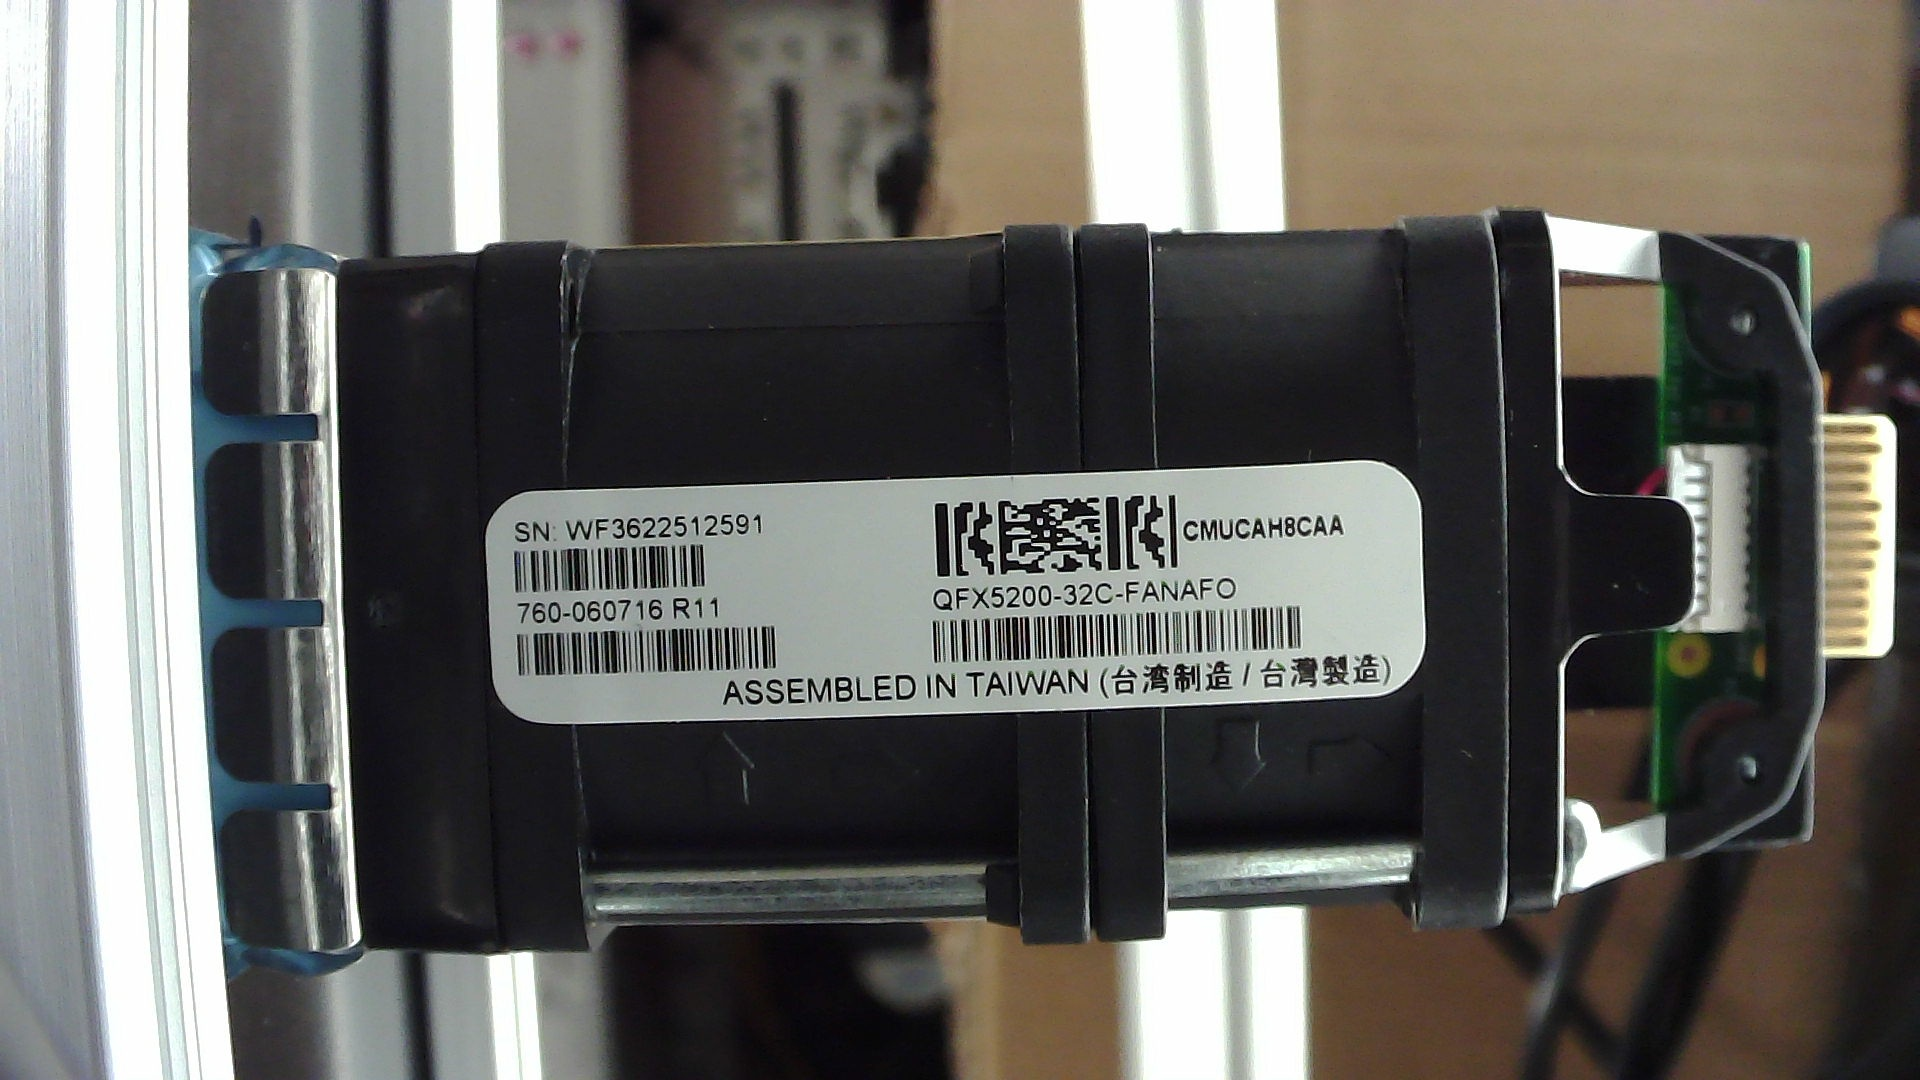2_0: (314, 84, 1040, 785)
